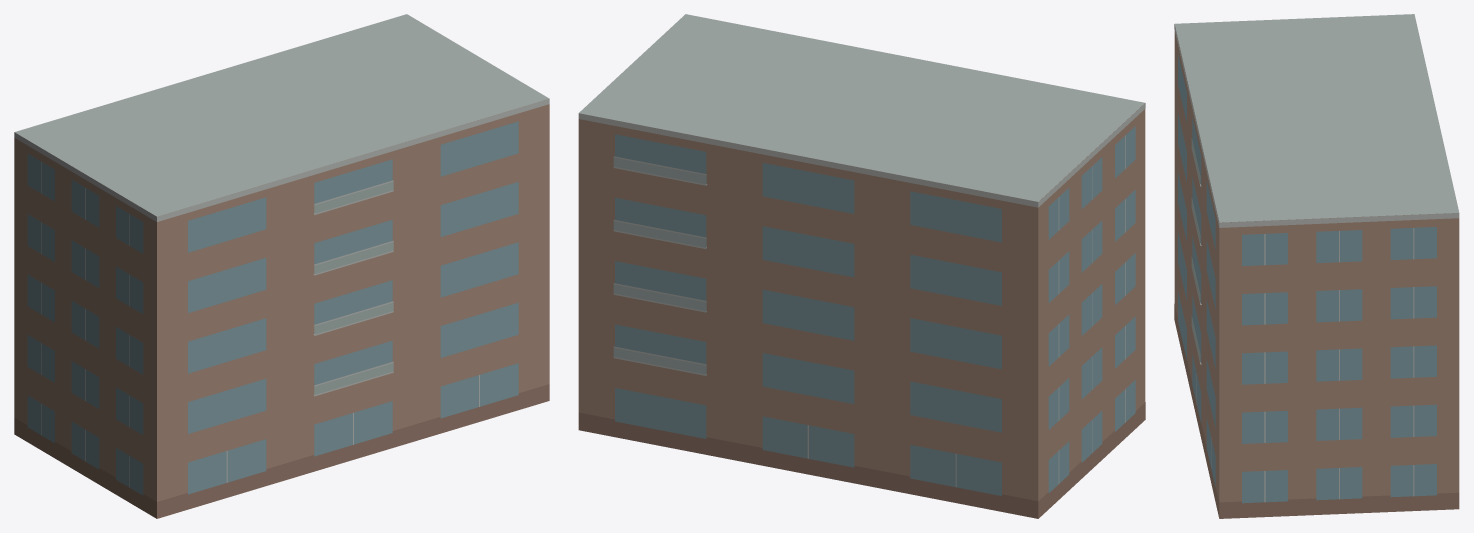
The model's file is survey-upis-32633384.glb.
3 views of the same model, side by side, from view 1: azimuth 30°, elevation 25°; view 2: azimuth 150°, elevation 25°; view 3: azimuth 270°, elevation 25° (orthographic). The views are drawn at different scales.
Parts seen in each view (by area): view 1: survey-upis-32633384.tmp; view 2: survey-upis-32633384.tmp; view 3: survey-upis-32633384.tmp.
Boxes of the visible parts, x1,y1,x2,y2 form: survey-upis-32633384.tmp: (14, 14, 549, 518); survey-upis-32633384.tmp: (578, 14, 1145, 518); survey-upis-32633384.tmp: (1174, 14, 1459, 518).
Bounding box in the file's own units: 20.39 × 13.5 × 11.77.
